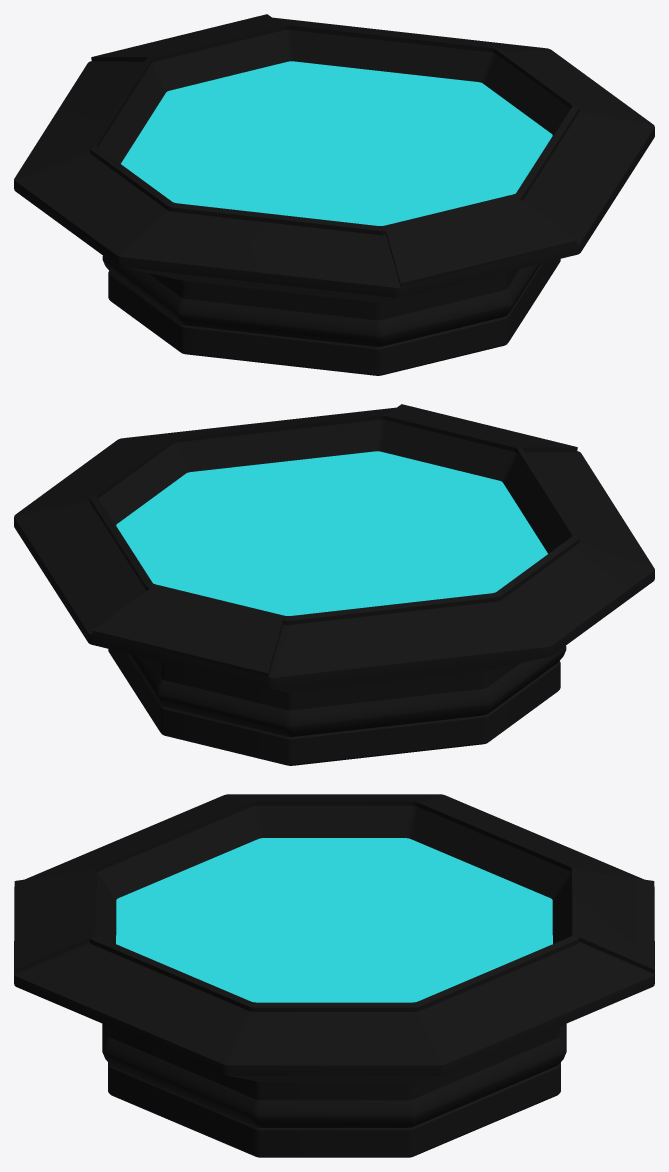
The model's file is CentralRoomTable.FBX.
The picture shows the model from 3 angles, top to bottom: view 1: azimuth 30°, elevation 25°; view 2: azimuth 150°, elevation 25°; view 3: azimuth 270°, elevation 25°; orthographic projection. The views are drawn at different scales.
Parts seen in each view (by area): view 1: CentralRoomTable, CentralRoomTableScreen; view 2: CentralRoomTable, CentralRoomTableScreen; view 3: CentralRoomTable, CentralRoomTableScreen.
Boxes of the visible parts, left/top/right/bottom form: CentralRoomTable: left=14, top=14, right=654, bottom=375; CentralRoomTableScreen: left=121, top=61, right=552, bottom=225; CentralRoomTable: left=14, top=404, right=654, bottom=765; CentralRoomTableScreen: left=116, top=451, right=547, bottom=615; CentralRoomTable: left=14, top=794, right=654, bottom=1157; CentralRoomTableScreen: left=116, top=838, right=552, bottom=1002.
Size of the model in its own units: 358 by 357 by 98.82.
